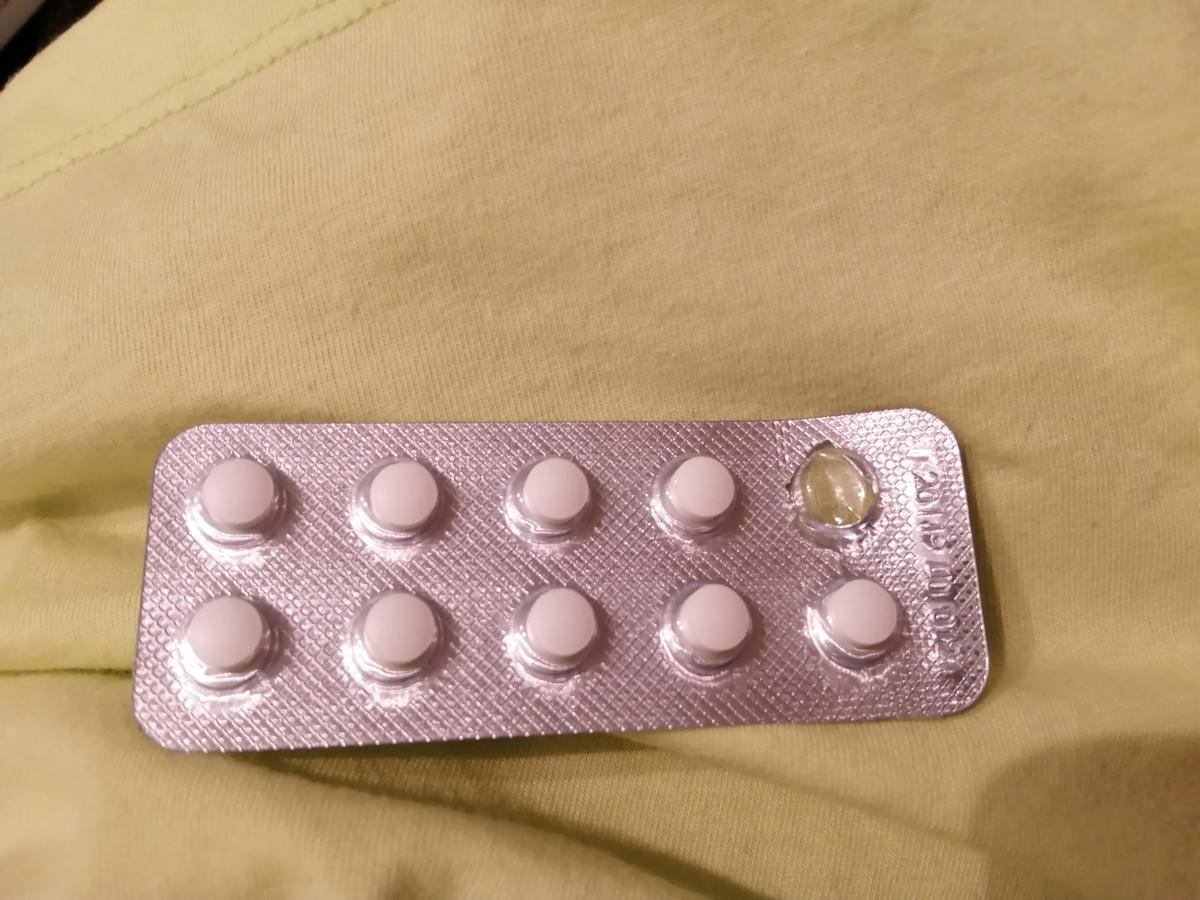tablet: (183, 591, 263, 680), (198, 456, 281, 538), (355, 586, 441, 665), (674, 579, 754, 662), (363, 454, 441, 536), (515, 448, 589, 532), (520, 584, 597, 662), (823, 577, 901, 652), (663, 448, 733, 525)
